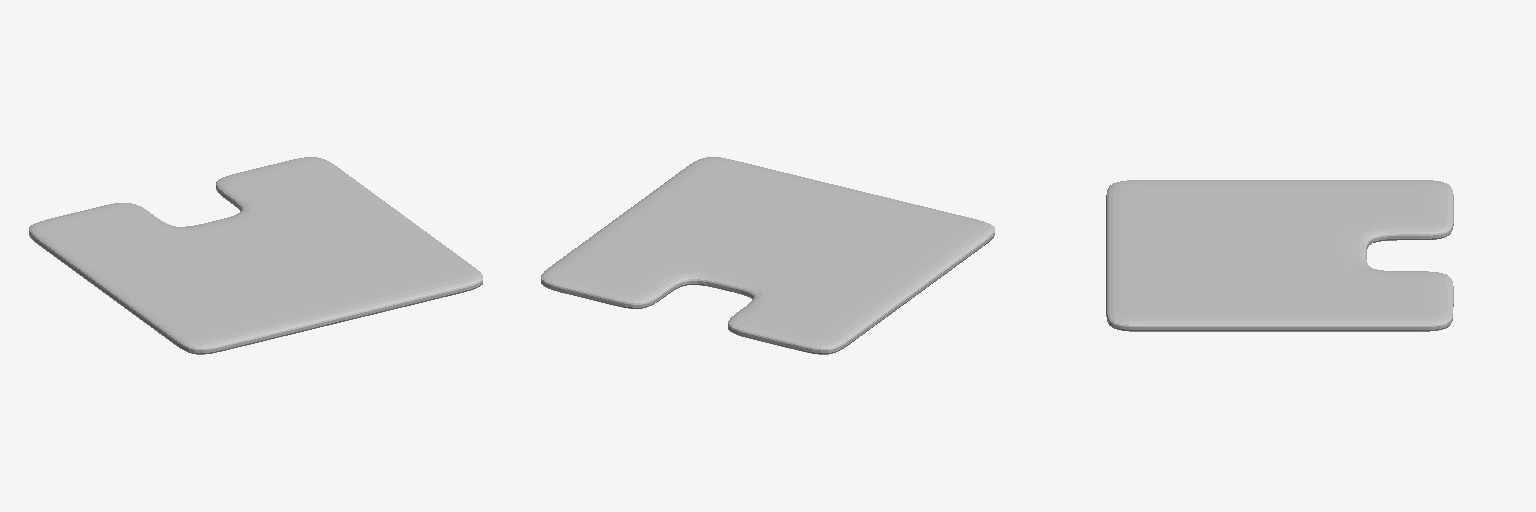
File: GoldenPuzzle-23-OOOF.obj
3 views of the same model, side by side, from view 1: azimuth 30°, elevation 25°; view 2: azimuth 150°, elevation 25°; view 3: azimuth 270°, elevation 25° (orthographic).
Parts seen in each view (by area): view 1: Puzzle,023_Puzzle.023; view 2: Puzzle,023_Puzzle.023; view 3: Puzzle,023_Puzzle.023.
Boxes of the visible parts, <box> form: Puzzle,023_Puzzle.023: <box>29,157,482,354</box>; Puzzle,023_Puzzle.023: <box>541,157,994,354</box>; Puzzle,023_Puzzle.023: <box>1106,180,1453,331</box>.
Bounding box in the file's own units: 0.25 × 0.0092 × 0.251.